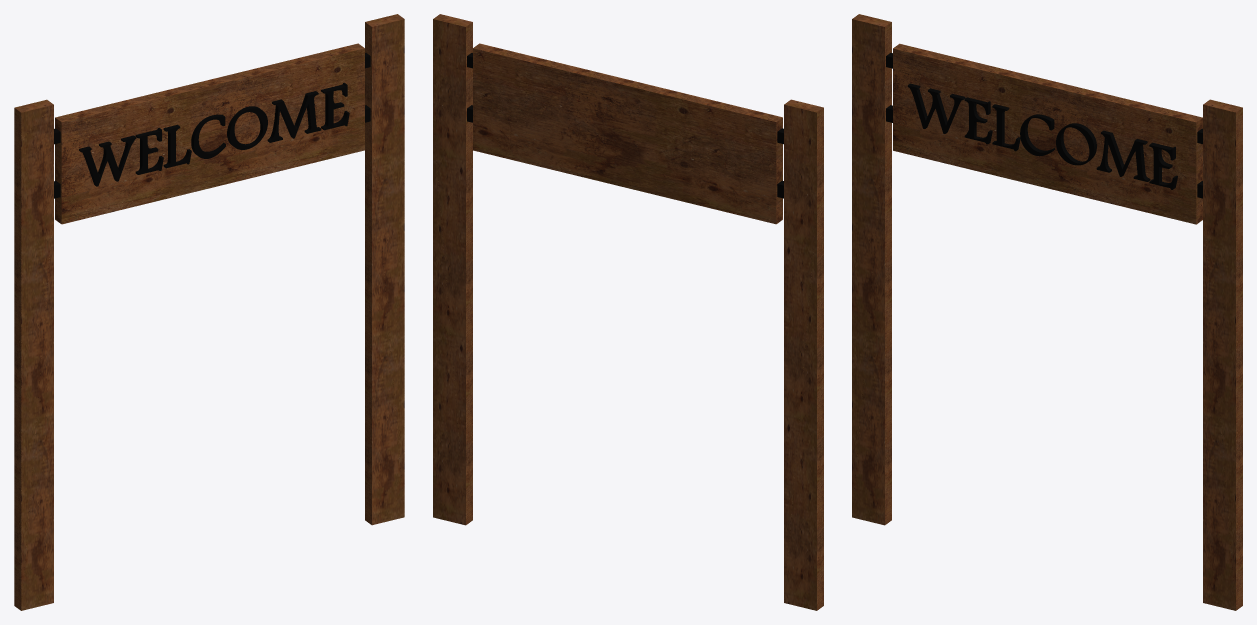
The model's file is objWelcome.obj.
The picture shows the model from 3 angles, left to right: view 1: azimuth 30°, elevation 25°; view 2: azimuth 150°, elevation 25°; view 3: azimuth 330°, elevation 25°; orthographic projection.
Parts seen in each view (by area): view 1: objWelcome_objWelcome_lambert2SG, objWelcome_objWelcome_blinn1SG; view 2: objWelcome_objWelcome_lambert2SG; view 3: objWelcome_objWelcome_lambert2SG, objWelcome_objWelcome_blinn1SG.
Boxes of the visible parts, bbox=[...] form: objWelcome_objWelcome_lambert2SG: bbox=[14, 14, 404, 610]; objWelcome_objWelcome_blinn1SG: bbox=[54, 53, 370, 198]; objWelcome_objWelcome_lambert2SG: bbox=[433, 14, 823, 610]; objWelcome_objWelcome_lambert2SG: bbox=[852, 14, 1242, 610]; objWelcome_objWelcome_blinn1SG: bbox=[886, 53, 1202, 198].
Size of the model in its own units: 8.82 by 10.95 by 0.3984.
Materials: 2 (1 with a texture image).
